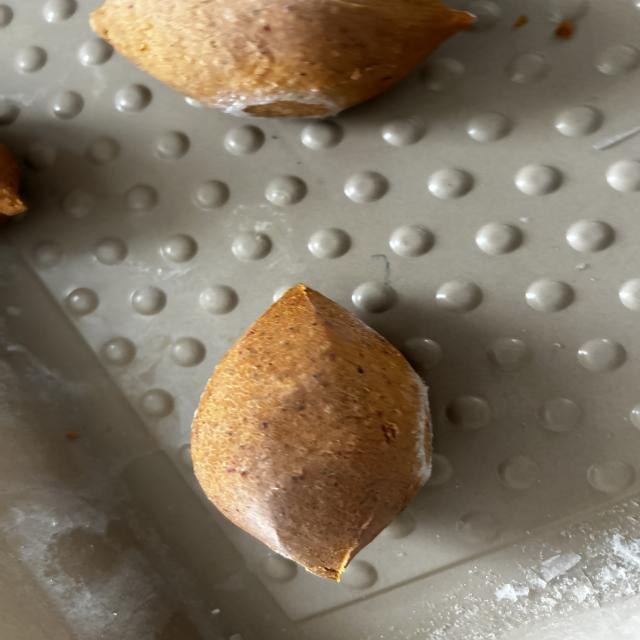kobi: (189, 282, 434, 582), (88, 0, 477, 119)
